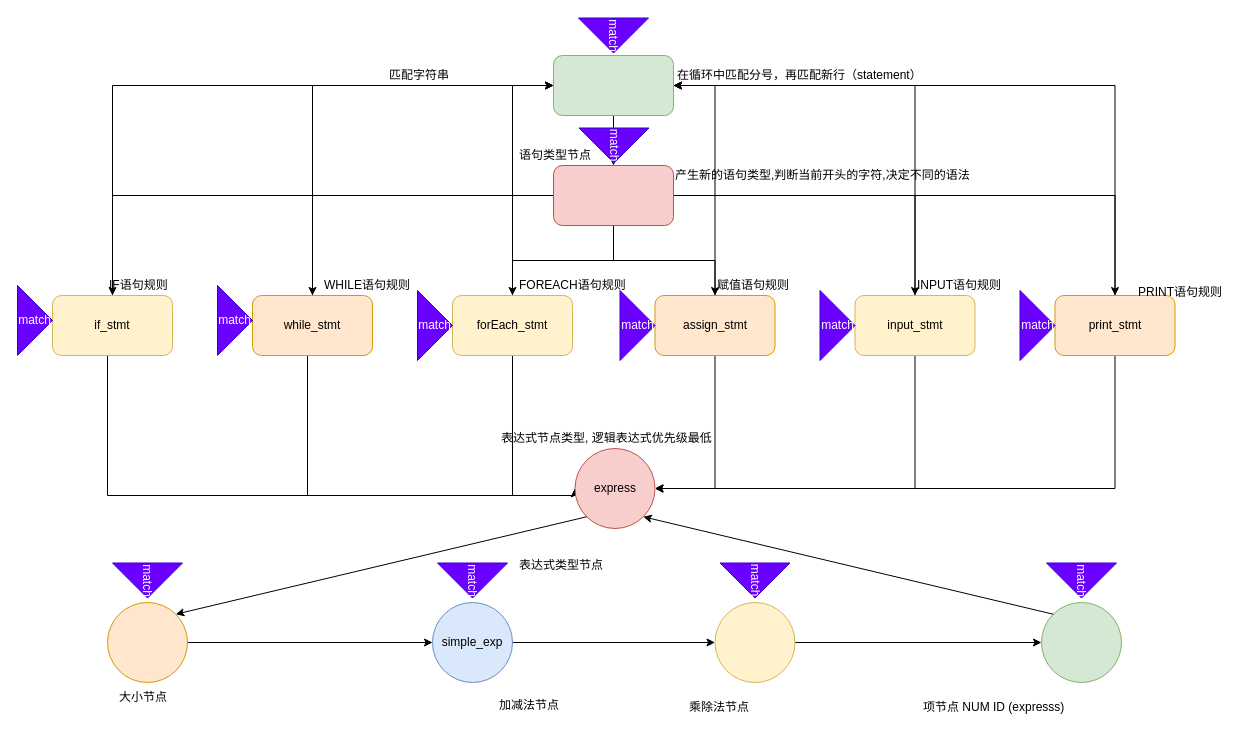
Image size: 1254x734. Some labels were removed from this diagram. The centre of each missing label's shape, as x and y in pixels:
compare: (147,642)
factor: (1081,642)
statement: (613,195)
stmt_sequence: (613,85)
term: (754,642)
